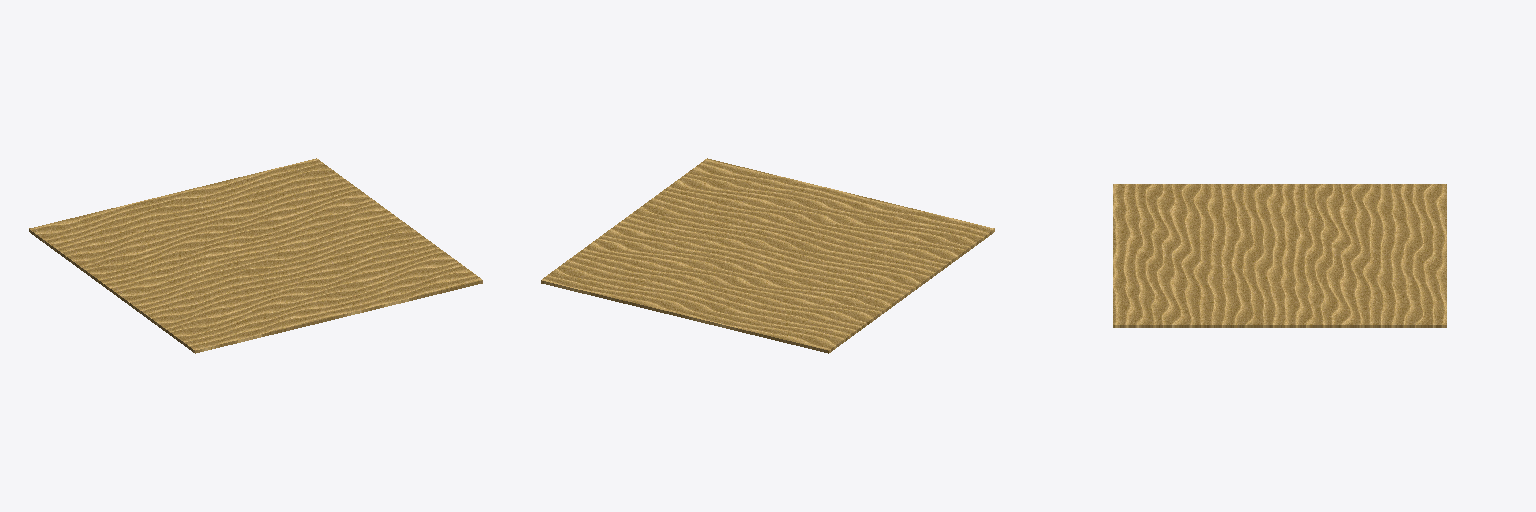
The picture shows the model from 3 angles: view 1: azimuth 30°, elevation 25°; view 2: azimuth 150°, elevation 25°; view 3: azimuth 270°, elevation 25°; orthographic projection.
Visible parts, largest first — view 1: Floor; view 2: Floor; view 3: Floor.
Boxes of the visible parts, x1=… form: Floor: x1=29, y1=158, x2=482, y2=353; Floor: x1=541, y1=158, x2=994, y2=353; Floor: x1=1113, y1=184, x2=1446, y2=327.
Size of the model in its own units: 300 by 3 by 300.
Materials: 1 (1 with a texture image).